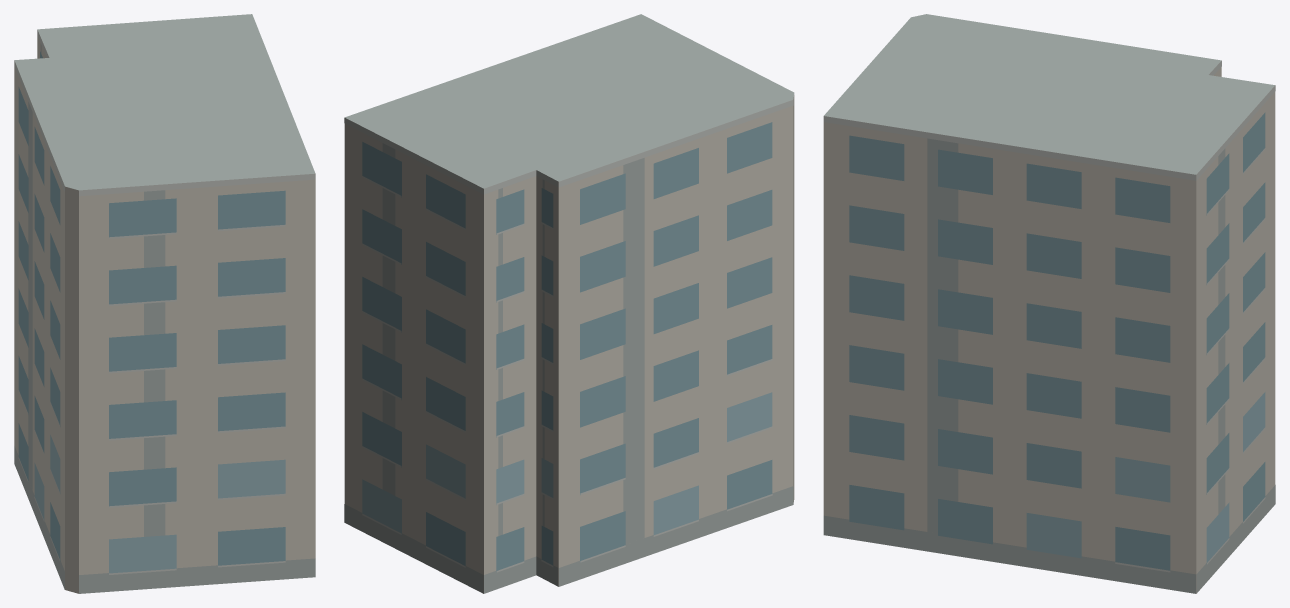
The model's file is survey-upis-32879232.glb.
3 views of the same model, side by side, from view 1: azimuth 30°, elevation 25°; view 2: azimuth 150°, elevation 25°; view 3: azimuth 270°, elevation 25° (orthographic). The views are drawn at different scales.
Parts seen in each view (by area): view 1: survey-upis-32879232.tmp; view 2: survey-upis-32879232.tmp; view 3: survey-upis-32879232.tmp.
Part boxes in pixels (bbox=[...]): survey-upis-32879232.tmp: bbox=[14, 14, 315, 593]; survey-upis-32879232.tmp: bbox=[344, 14, 794, 593]; survey-upis-32879232.tmp: bbox=[823, 14, 1275, 593].
Size of the model in its own units: 13.75 by 16.7 by 16.33.
